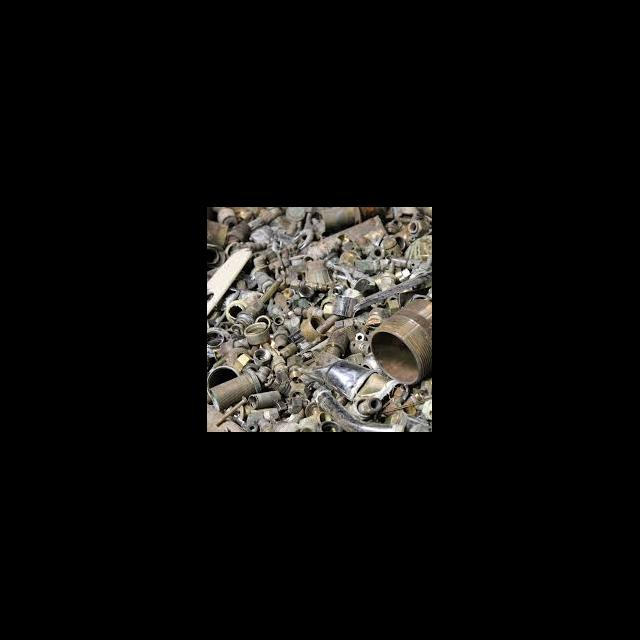metal: (301, 346, 408, 408), (368, 294, 432, 388), (308, 384, 406, 432), (228, 272, 284, 338), (208, 366, 264, 411), (294, 313, 334, 342), (326, 290, 362, 322), (382, 250, 428, 274), (240, 316, 274, 348), (350, 252, 392, 276), (246, 388, 282, 408), (248, 344, 276, 364)
